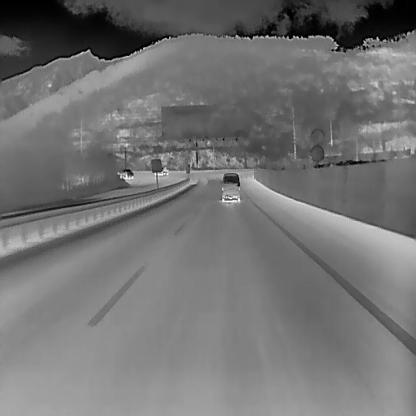car: (221, 172, 240, 203), (118, 167, 134, 178), (153, 165, 169, 175)
